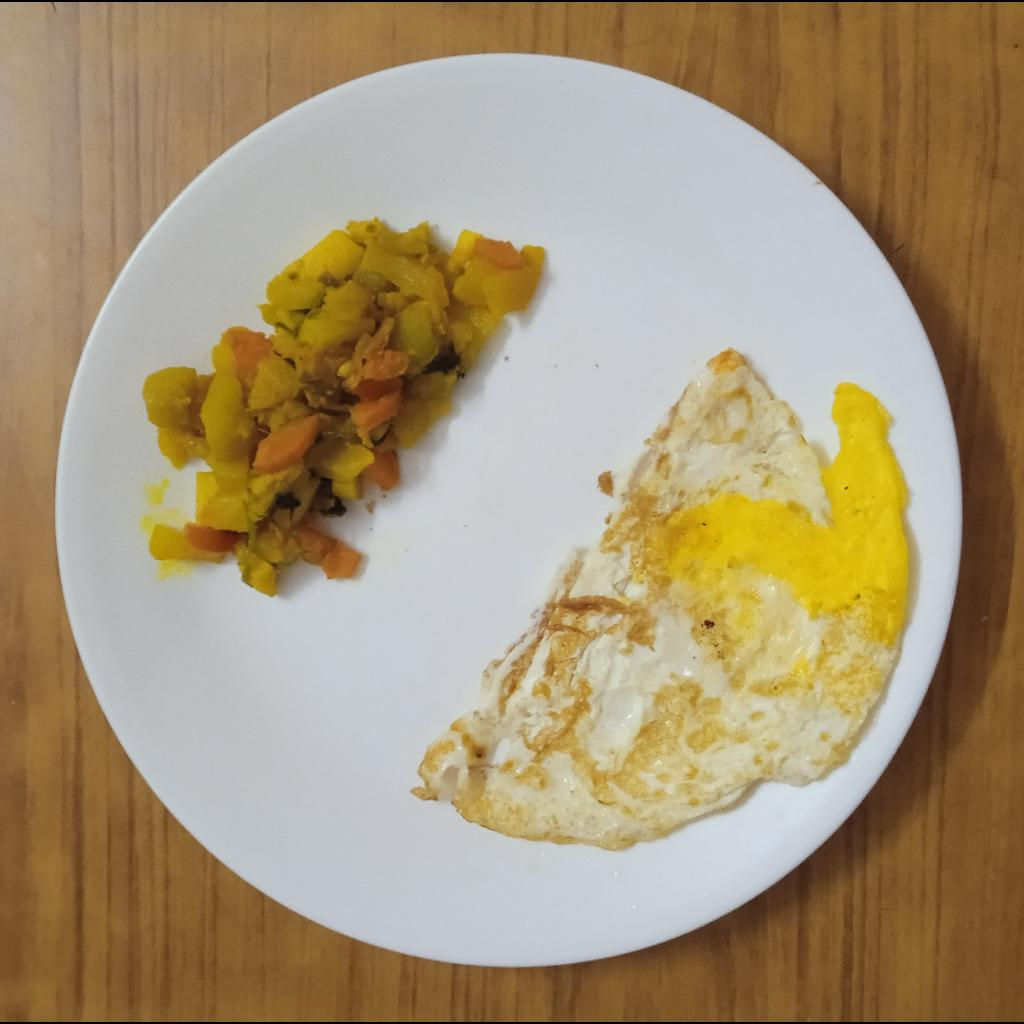egg-poached: (419, 349, 915, 849)
vegetable: (139, 216, 543, 601)
